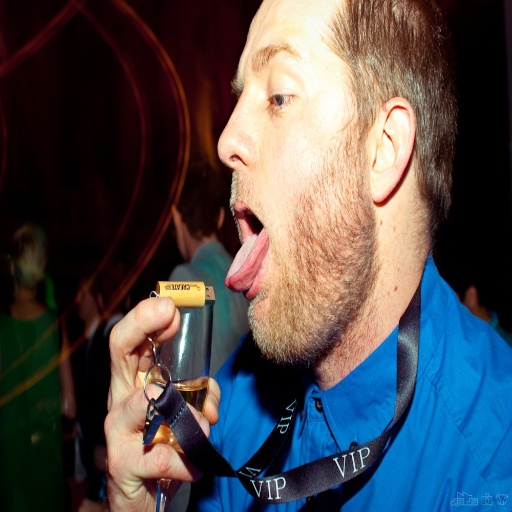hand: (102, 295, 220, 510)
